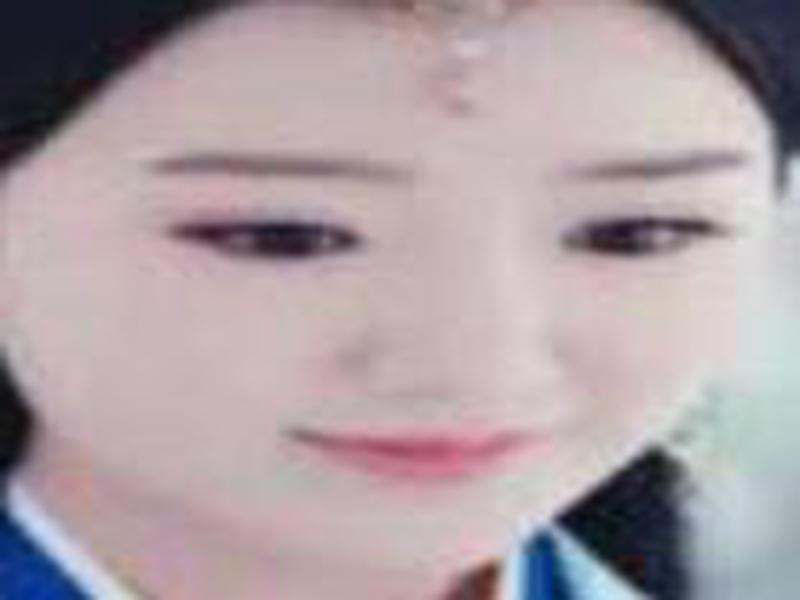without_mask: (2, 68, 765, 580)
